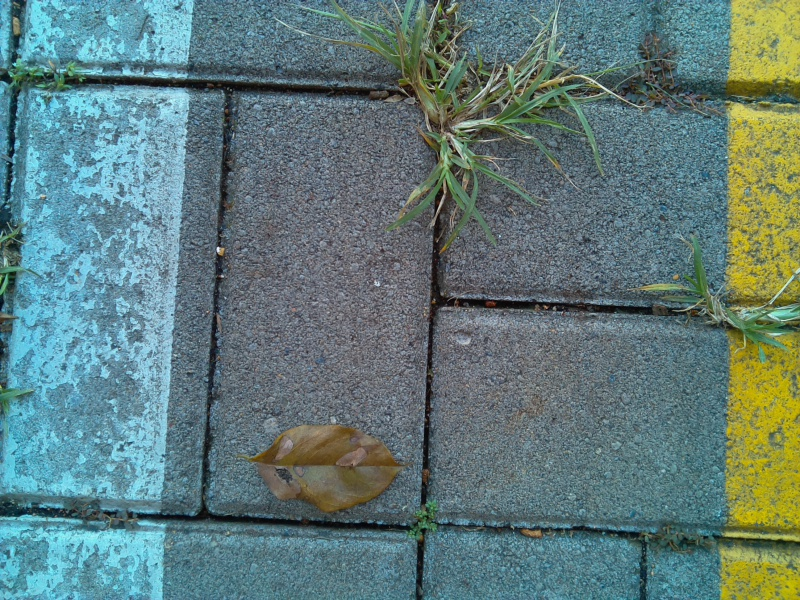Weed: (450, 9, 599, 137), (664, 247, 800, 361), (329, 6, 453, 129), (401, 130, 508, 246), (626, 35, 695, 120), (63, 494, 149, 544), (632, 516, 718, 561), (10, 53, 84, 104), (400, 496, 448, 543)
